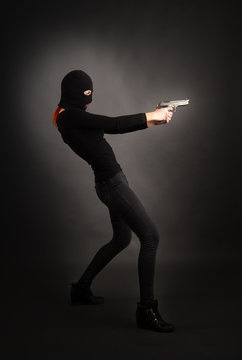mask: (59, 69, 95, 112)
person: (51, 62, 168, 329)
pistol: (153, 96, 191, 126)
